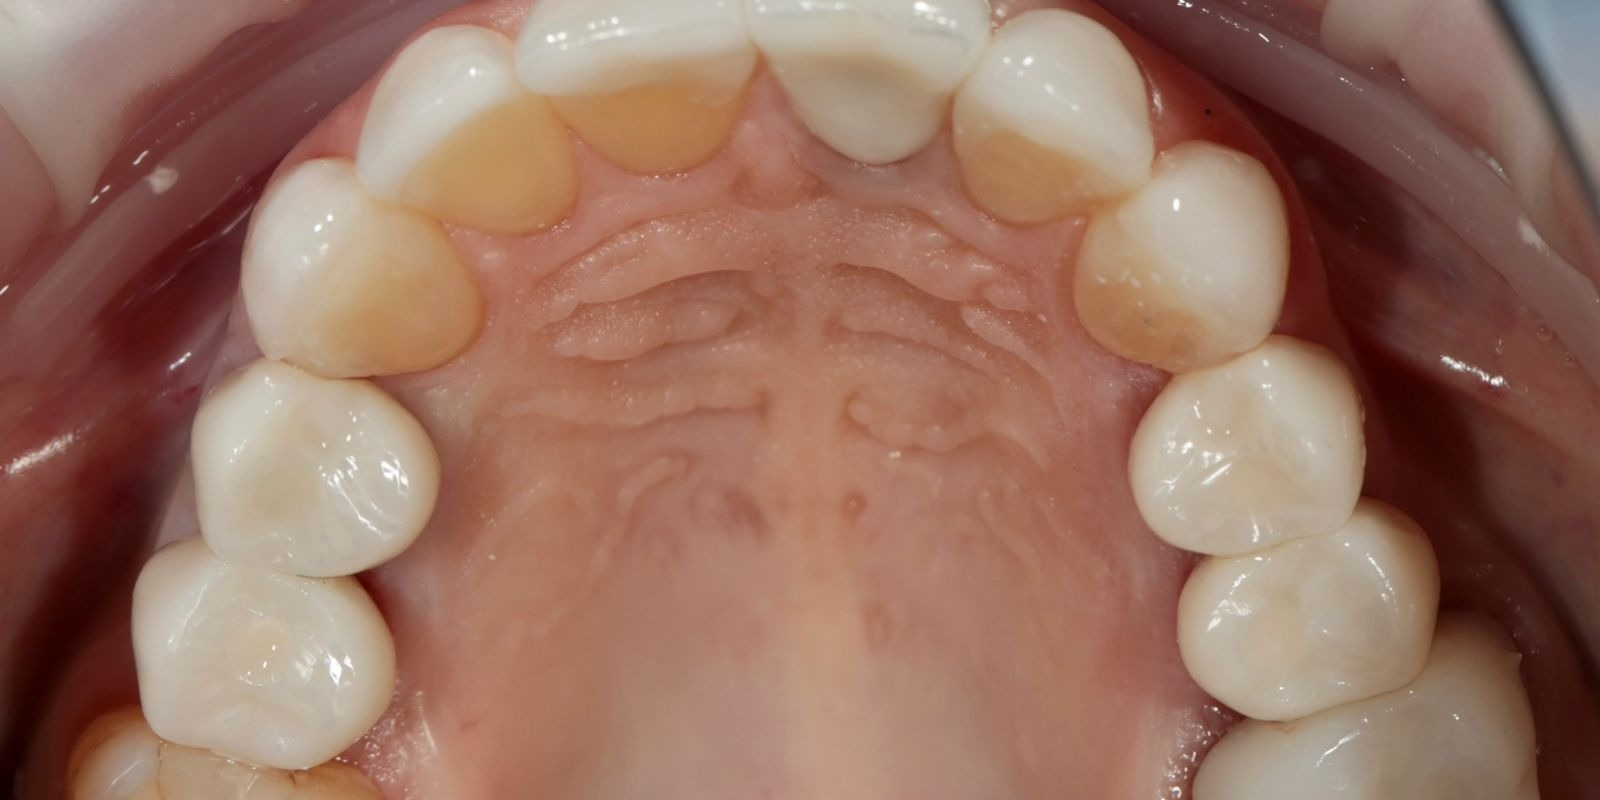UL1BC_healthy: (1129, 339, 1363, 554)
UL2BC_healthy: (1181, 500, 1432, 712)
ULCI_healthy: (755, 6, 987, 159)
ULC_healthy: (1076, 143, 1287, 365)
ULLI_healthy: (957, 12, 1149, 224)
UR1BC_healthy: (195, 365, 434, 576)
UR2BC_healthy: (134, 542, 393, 769)
URCI_healthy: (522, 4, 754, 172)
URC_healthy: (241, 163, 476, 371)
URLI_healthy: (358, 24, 570, 230)
